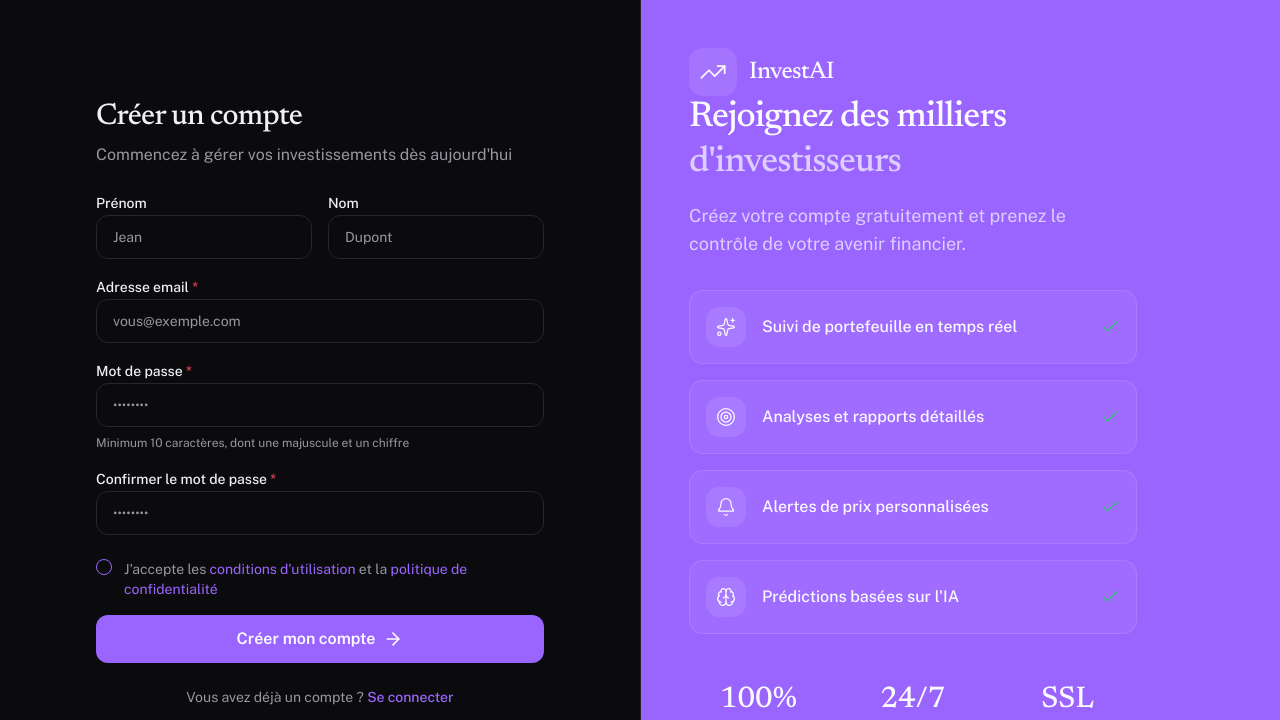
Scenario: ce que le formulaire refuse avant d’appeler le serveur › exige que les deux saisies concordent
Step 1. Type "nouveau@test.com" into the field labelled "Adresse email *" → x=320, y=321, box [96,299,544,343]
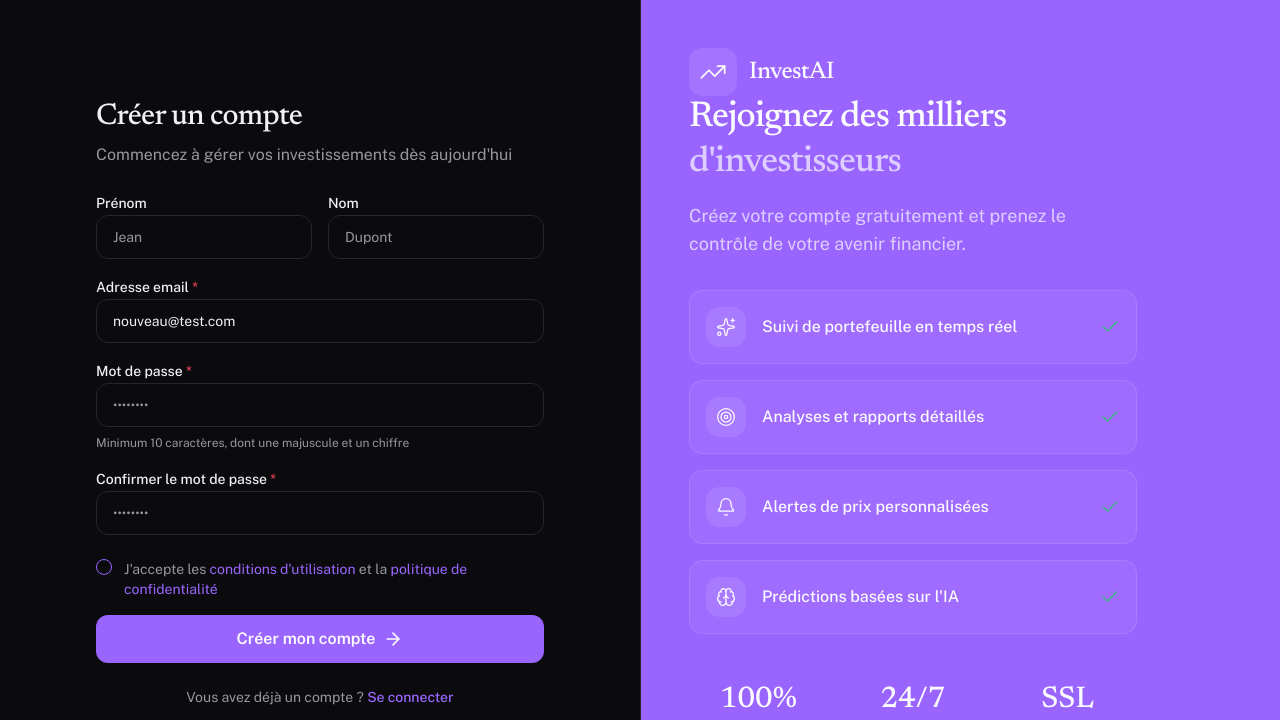
Step 2. Type "MotDePasseValide1" into the password field labelled "Mot de passe *" → x=320, y=405, box [96,383,544,427]
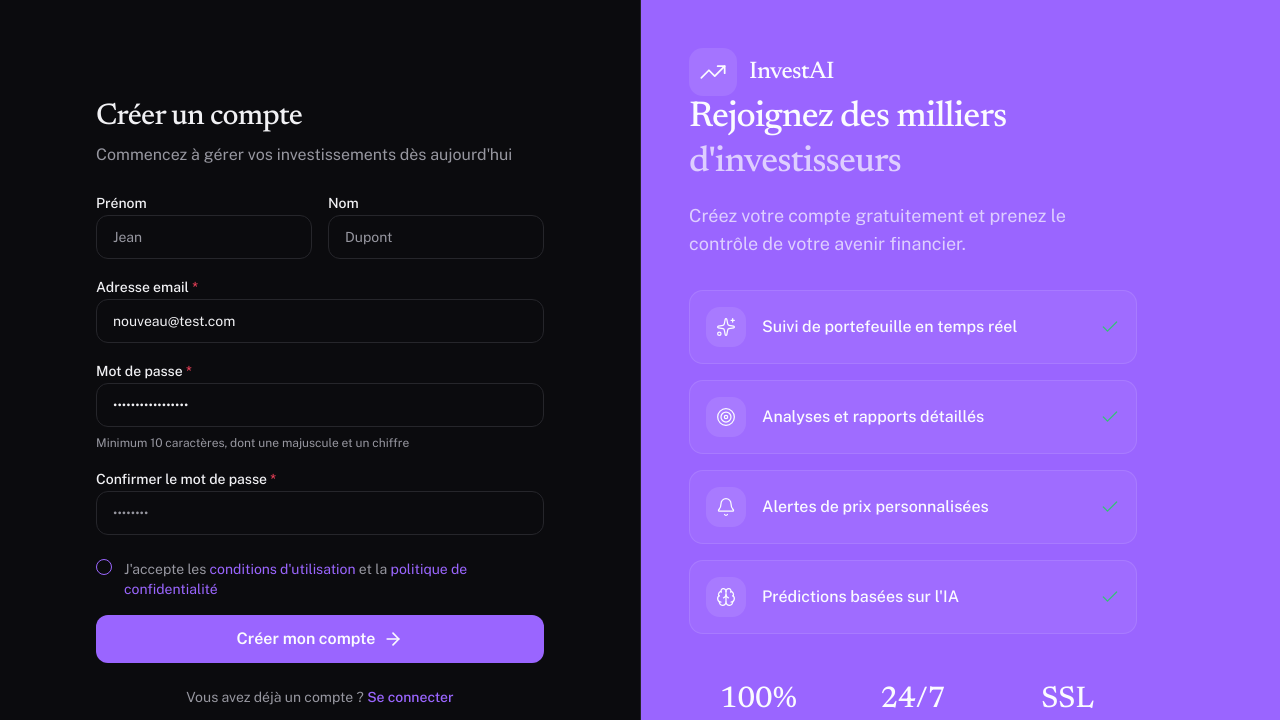
Step 3. Type "MotDePasseValide2" into the password field labelled "Confirmer le mot de passe *" → x=320, y=513, box [96,491,544,535]
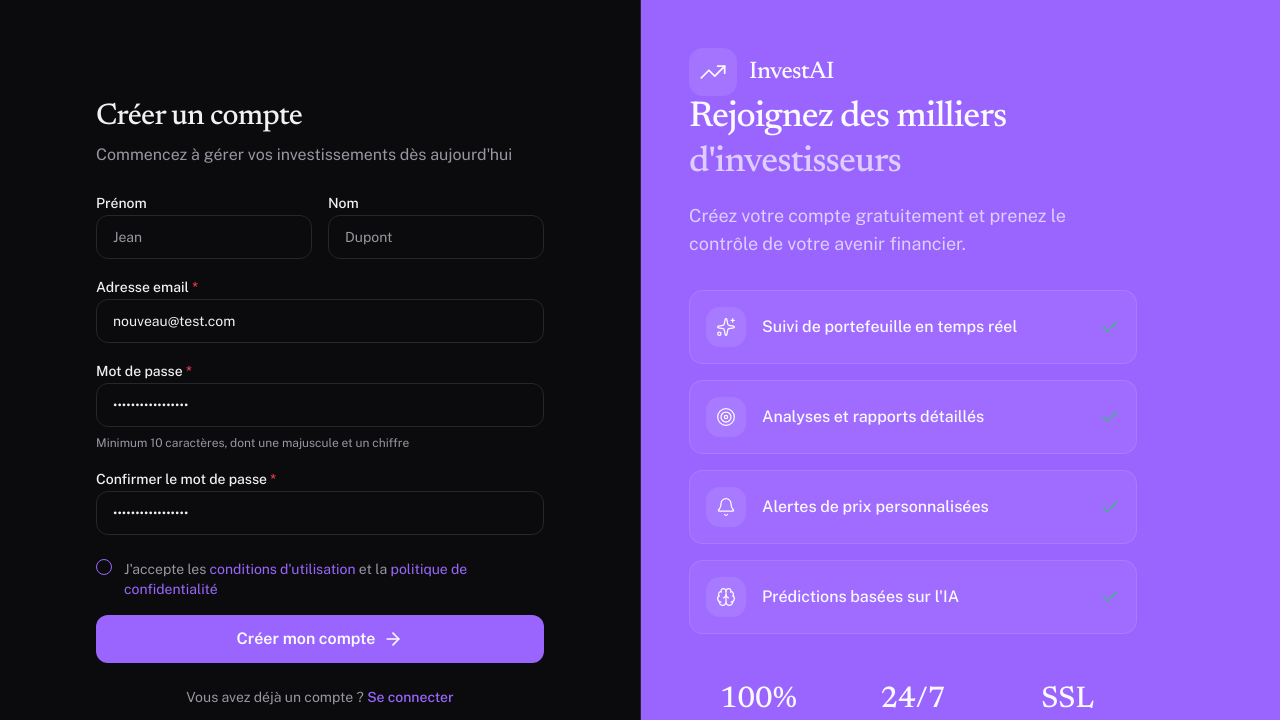
Step 4. Click the checkbox → x=104, y=567, box [96,559,112,575]
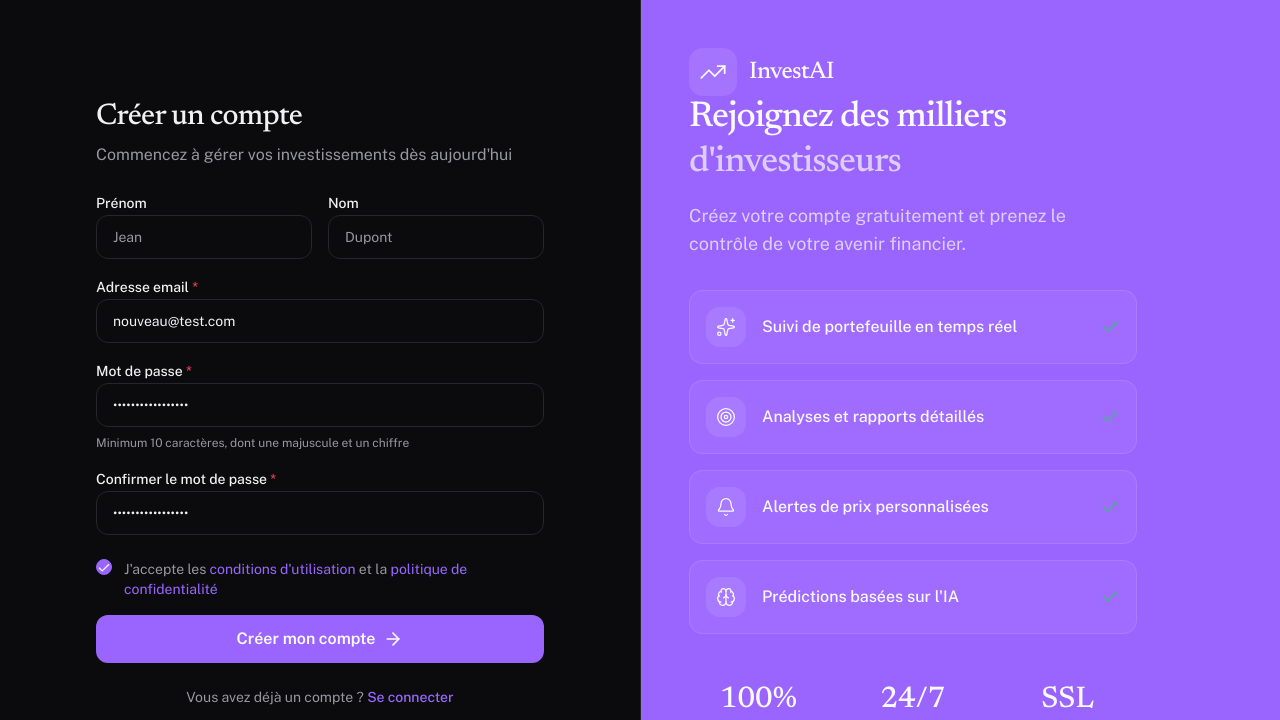
Step 5. Submit the form, box [96,191,544,663]
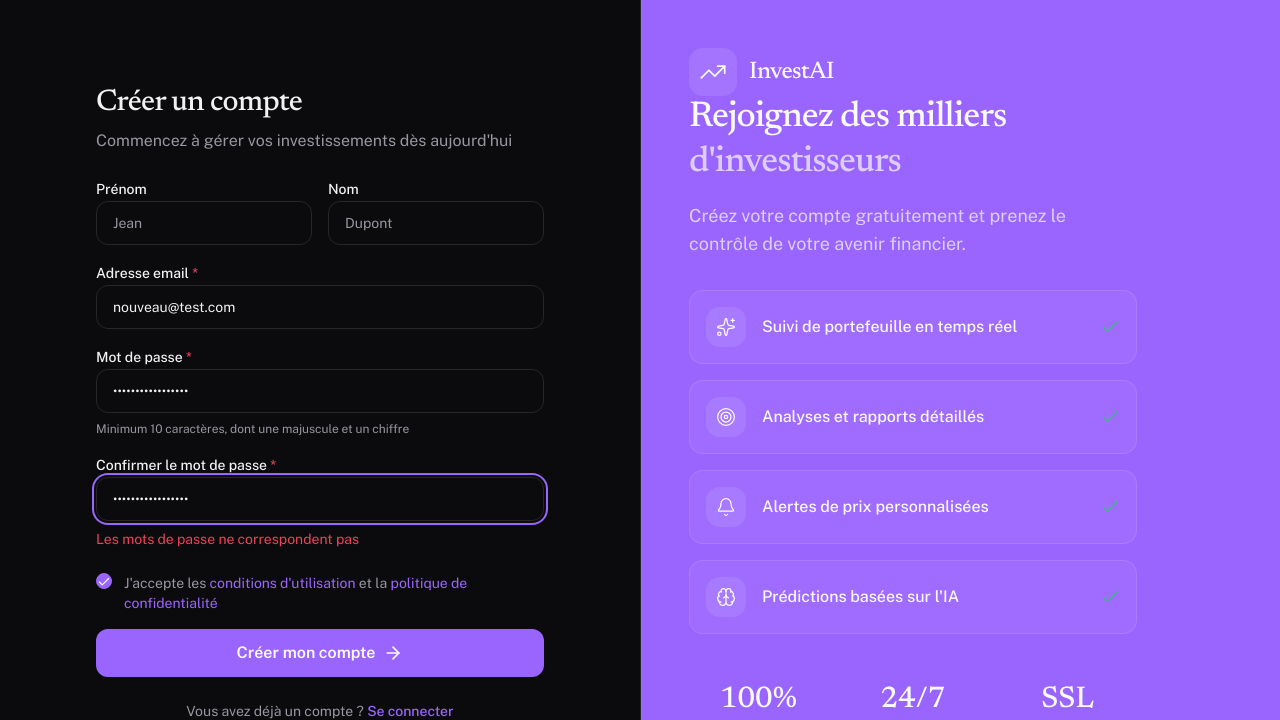
Now the text "Les mots de passe ne correspondent pas" is shown, box [96,531,359,547]
